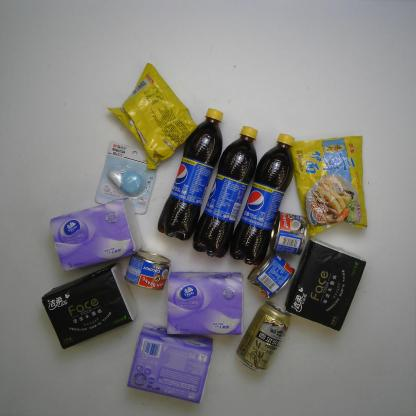Alcohol: (236, 300, 289, 372)
Canned Food: (246, 251, 295, 300), (125, 250, 171, 290), (271, 209, 308, 255)
Drink: (158, 108, 224, 242), (192, 126, 258, 258), (230, 133, 295, 266)
Instant Noodles: (108, 63, 196, 170), (290, 136, 368, 236)
Stationery: (94, 142, 160, 215)
Tissue: (42, 261, 138, 349), (285, 238, 363, 331), (50, 198, 144, 274), (127, 322, 214, 403), (167, 270, 243, 336)
